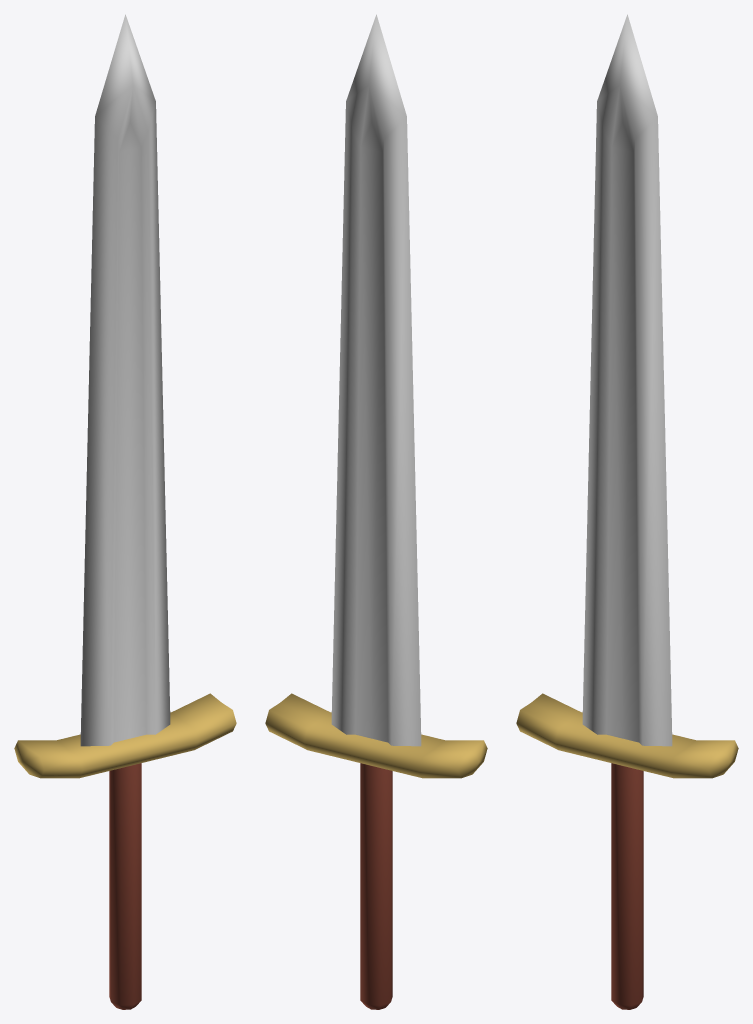
Rendered from espada.fbx.
3 views of the same model, side by side, from view 1: azimuth 30°, elevation 25°; view 2: azimuth 150°, elevation 25°; view 3: azimuth 330°, elevation 25° (orthographic).
Visible parts, largest first — view 1: Cube; view 2: Cube; view 3: Cube.
Part boxes in pixels (<box>): Cube: <box>14,14,236,1009</box>; Cube: <box>265,14,487,1009</box>; Cube: <box>516,14,738,1009</box>.
Size of the model in its own units: 345 by 1592 by 87.46.
